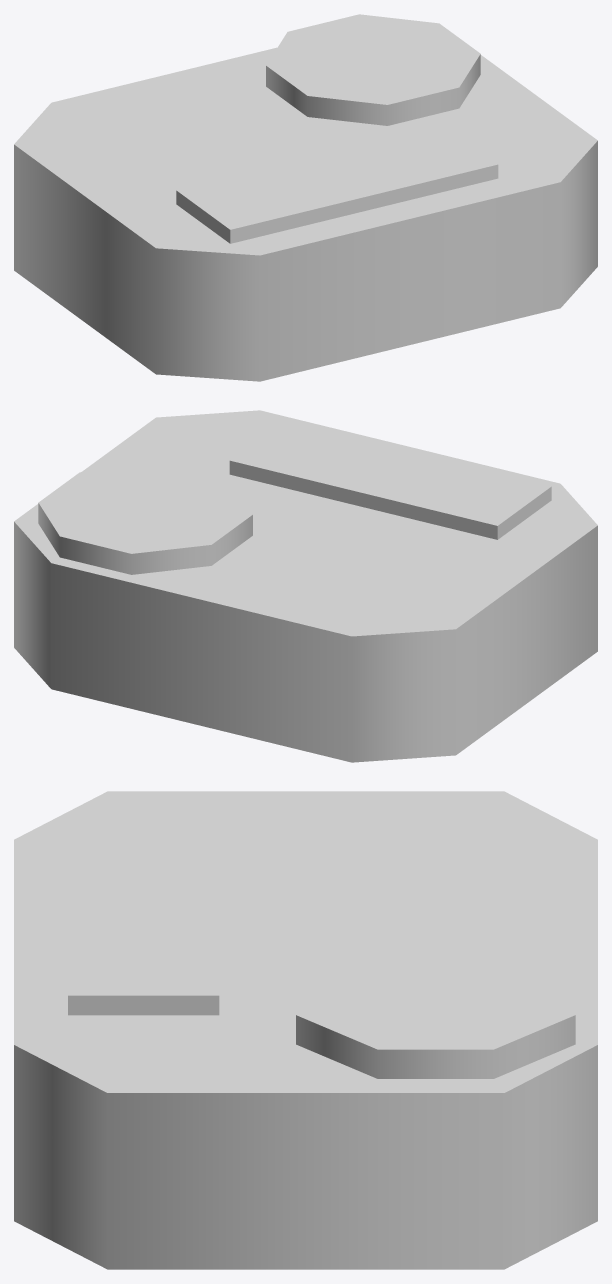
File: item_rm_component_spacer_a.obj
3 renders of one model, top to bottom at view 1: azimuth 30°, elevation 25°; view 2: azimuth 150°, elevation 25°; view 3: azimuth 270°, elevation 25°, orthographic. The views are drawn at different scales.
Visible parts, largest first — view 1: component_casing, part_040_rawmat_spacer_disc, part_012_rawmat_spacer_disc; view 2: component_casing, part_040_rawmat_spacer_disc, part_012_rawmat_spacer_disc; view 3: component_casing, part_012_rawmat_spacer_disc, part_040_rawmat_spacer_disc.
Boxes of the visible parts, left/top/right/bottom form: component_casing: left=14, top=47, right=597, bottom=381; part_040_rawmat_spacer_disc: left=176, top=125, right=498, bottom=243; part_012_rawmat_spacer_disc: left=266, top=14, right=480, bottom=125; component_casing: left=14, top=410, right=597, bottom=762; part_040_rawmat_spacer_disc: left=229, top=421, right=551, bottom=539; part_012_rawmat_spacer_disc: left=38, top=463, right=252, bottom=574; component_casing: left=14, top=791, right=597, bottom=1269; part_012_rawmat_spacer_disc: left=296, top=931, right=575, bottom=1078; part_040_rawmat_spacer_disc: left=68, top=813, right=219, bottom=1015.
Size of the model in its own units: 0.7788 by 0.2478 by 0.6372.
